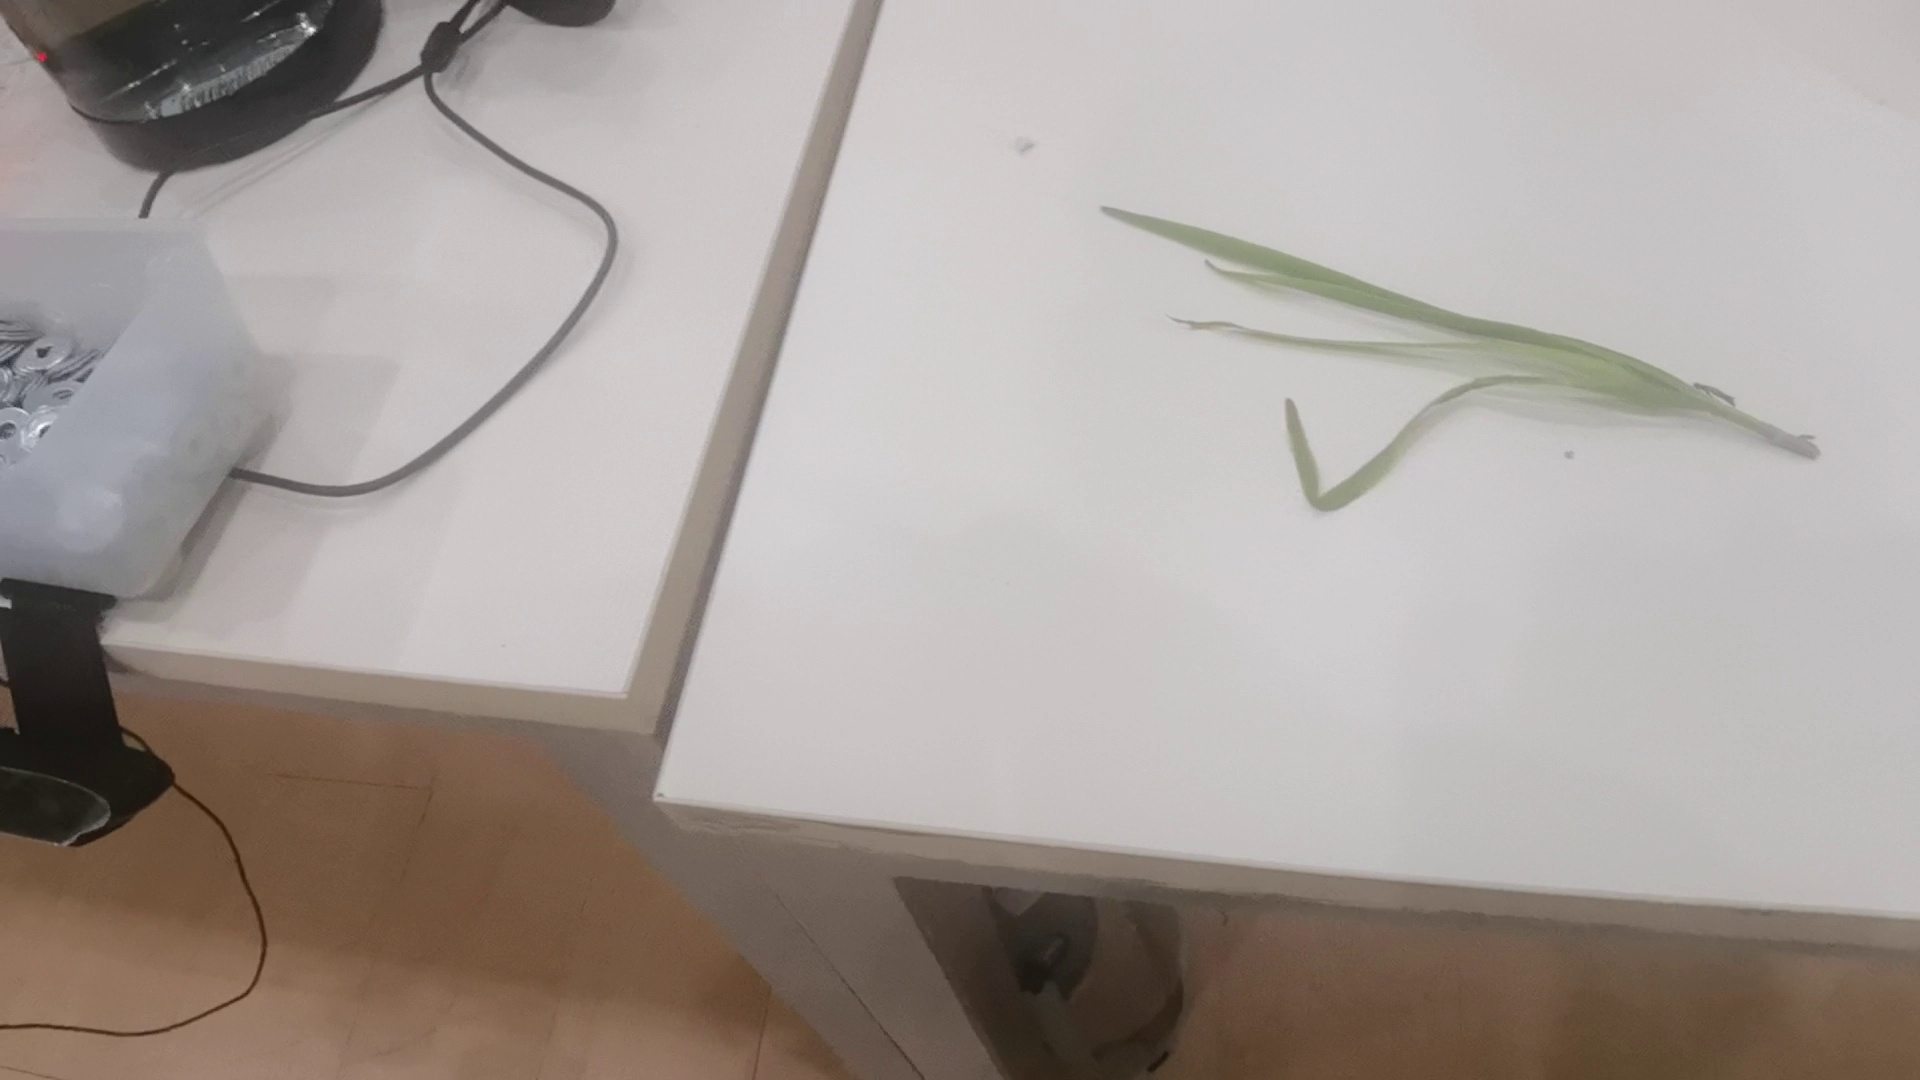chives: (1088, 190, 1829, 516)
